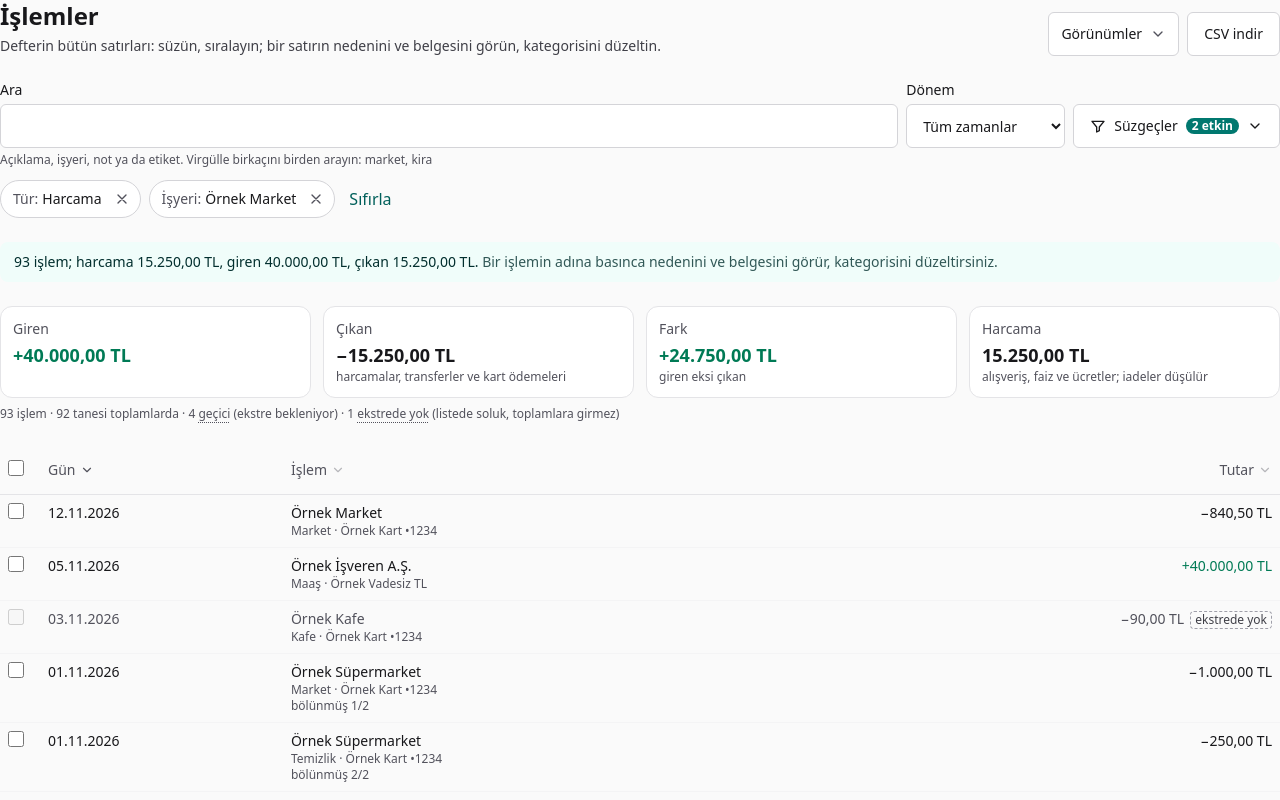
Test case: TransactionsPage: the list › asks with the address's filters in the API's names and opens a row's detail without asking again
This screenshot has width=1280, height=800.
Step 1. Click the link "Örnek Market" → (336, 512), box [291,503,382,522]
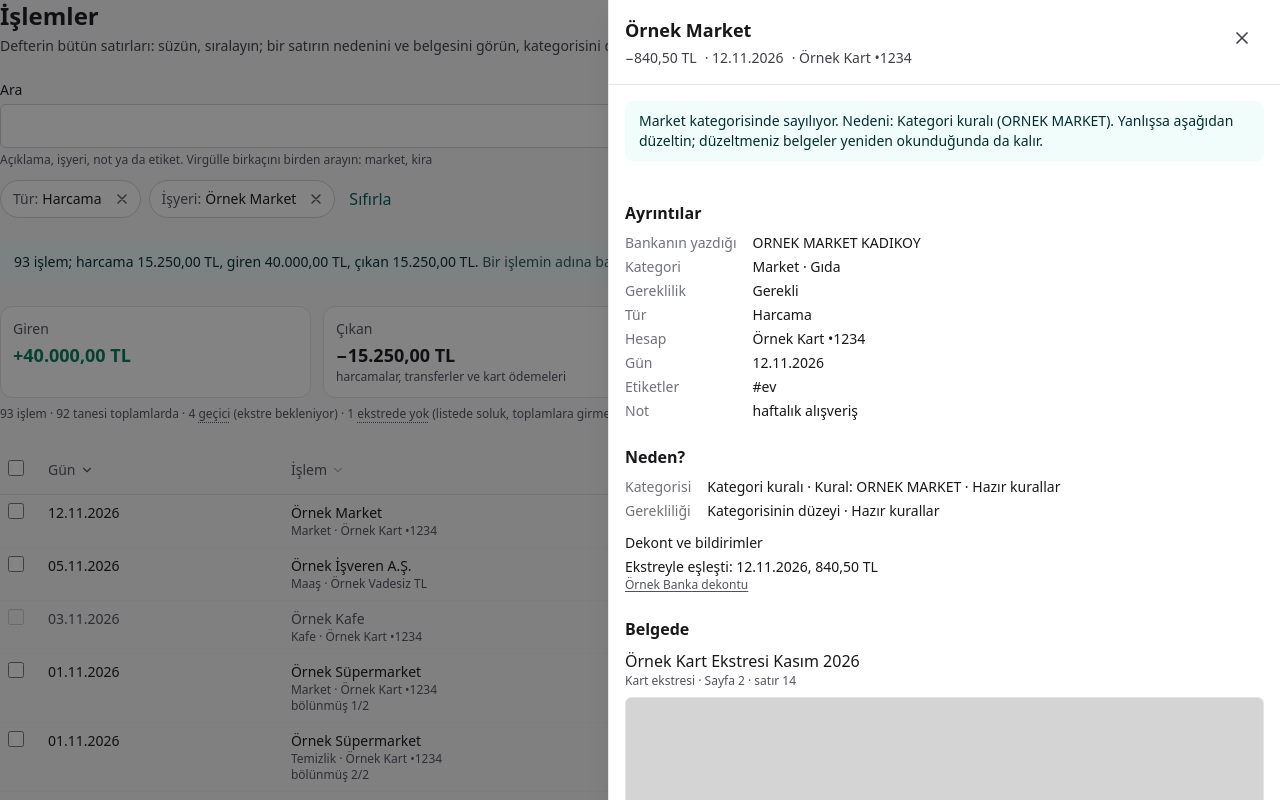
Check: the dialog "Örnek Market" is shown, box [608,0,1279,799]
